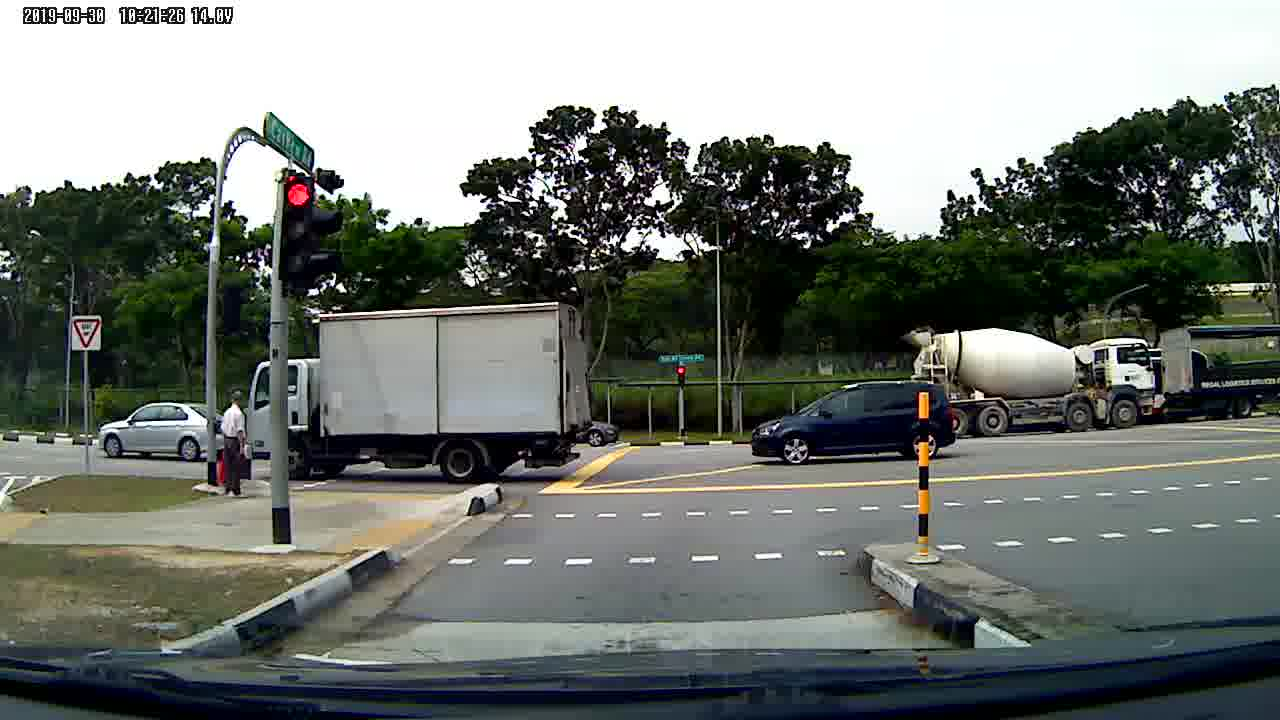car: (752, 379, 959, 469), (94, 399, 226, 469)
